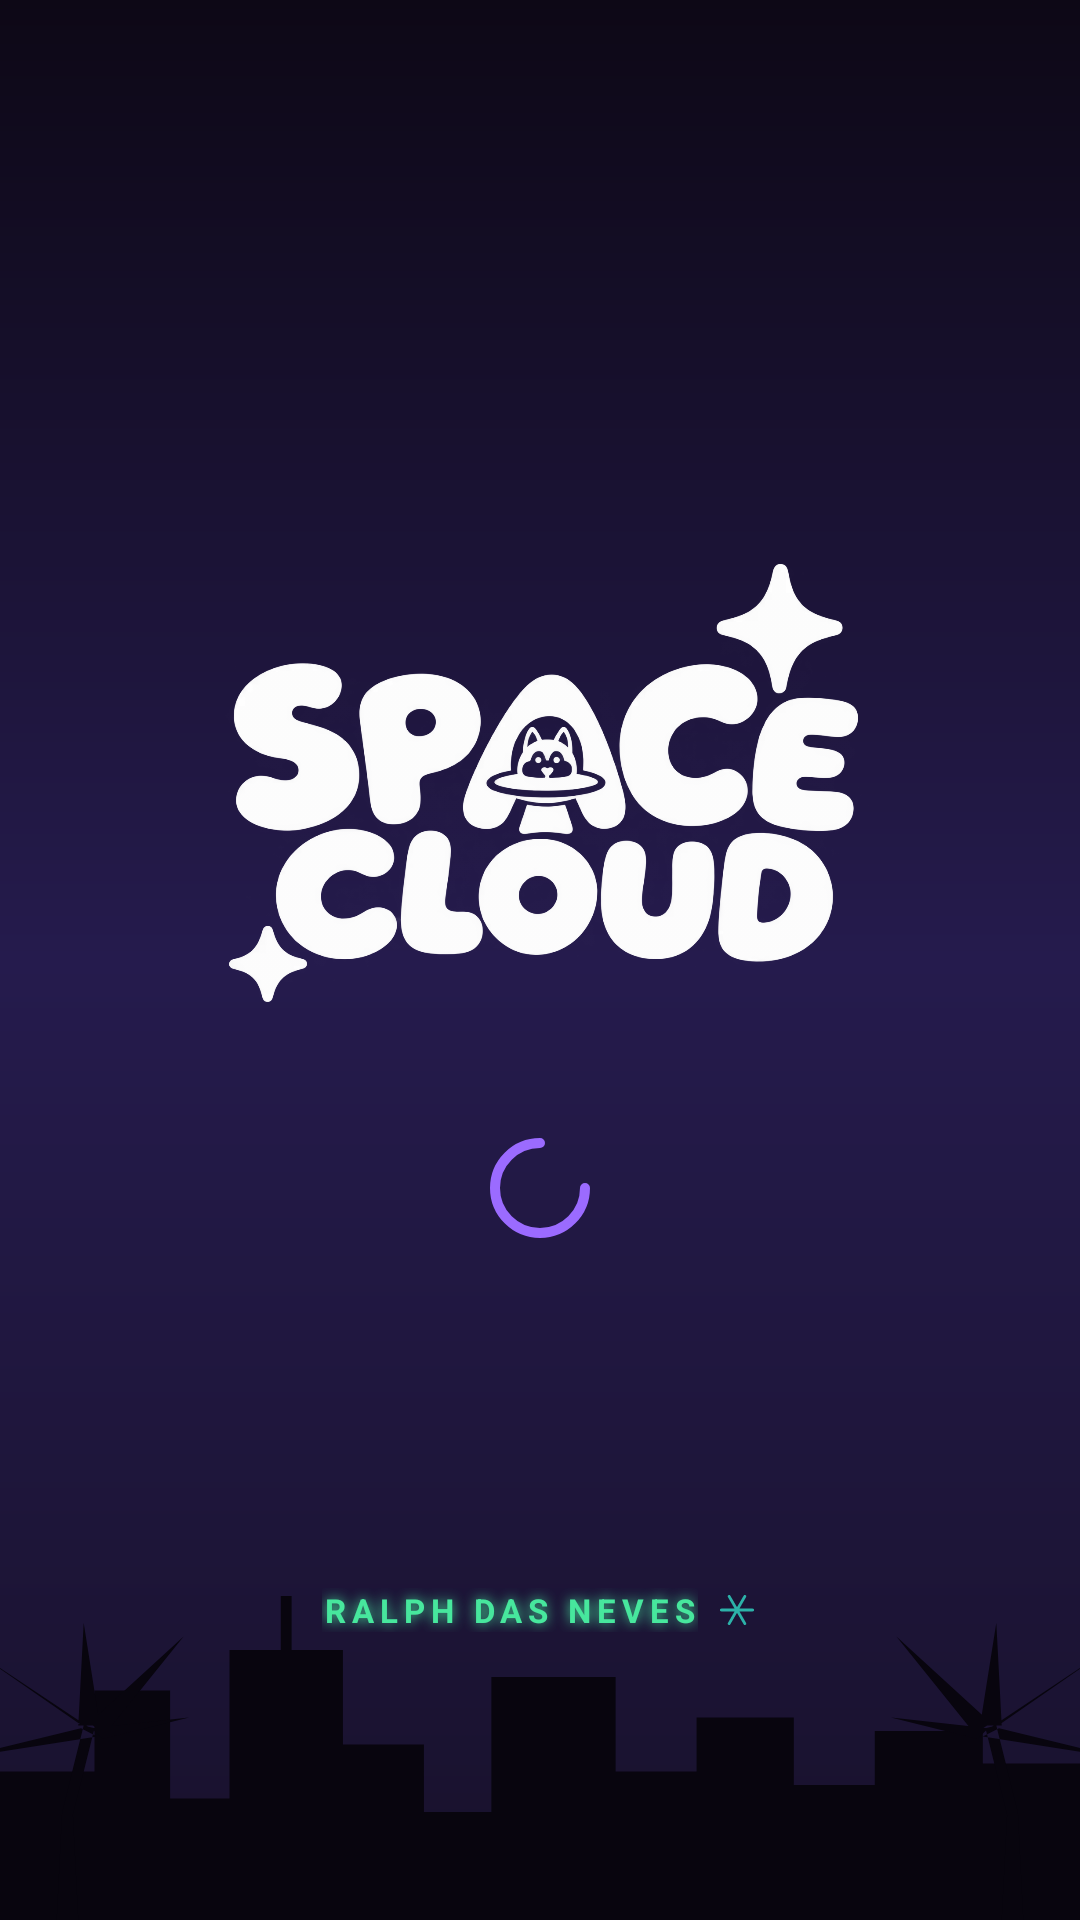

Screen size 1080w x 1920h. Icon name, then its center in pixels as (x=x, y=y):
loader: (x=540, y=1188)
snowflake: (x=737, y=1610)
